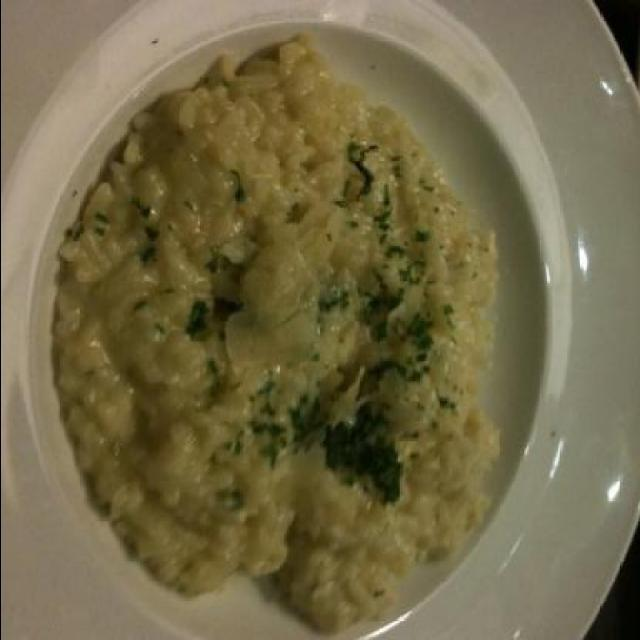Risotto: (82, 32, 496, 608)
